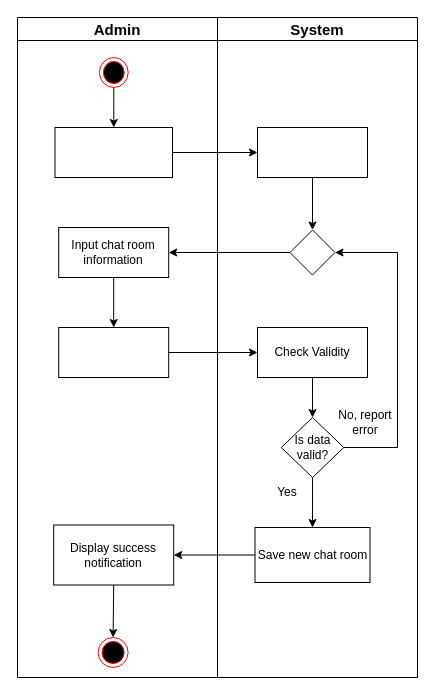
Some shapes in this 435 by 695 pixel diagram are drawn without their labels. The shapes that lost their labels are listed below. From the top down, each one's box as (x1, y1, x2, y2) in pixels, then its label:
(54, 126, 172, 178): Select "Create new chat room"
(256, 126, 368, 178): Display the Room Creation Form
(58, 326, 169, 378): Press "Confirm".
